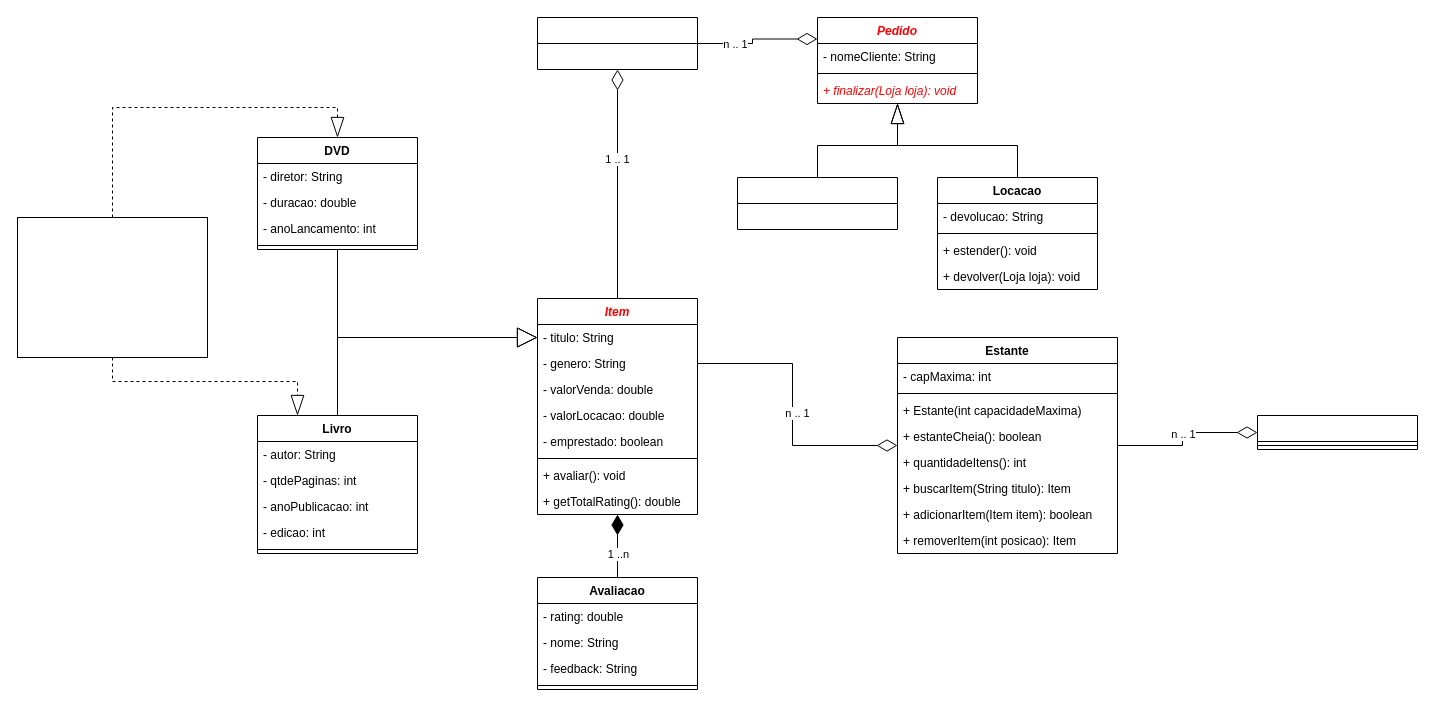
The diagram is 1435 pixels wide and 707 high, and some of its shapes have lost their labels. The centre of each missing label's shape, as x and y in pixels:
<<Interface>> Criavel + mostrarDetalhes(): void + montarItem(): Item: point (112, 287)
ItemPedido: point (617, 43)
Loja: point (1337, 432)
Venda: point (817, 203)
